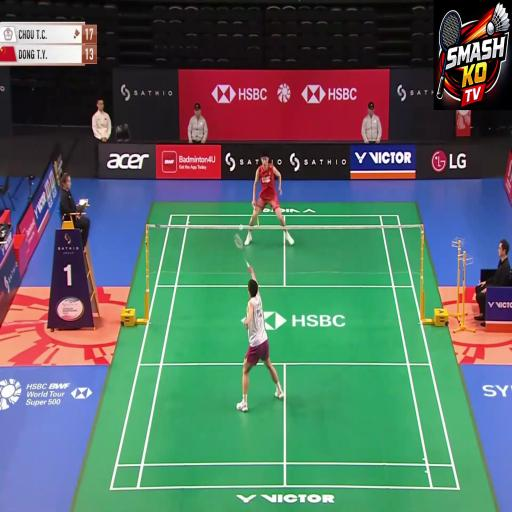player: (225, 266, 285, 418), (236, 149, 297, 269)
